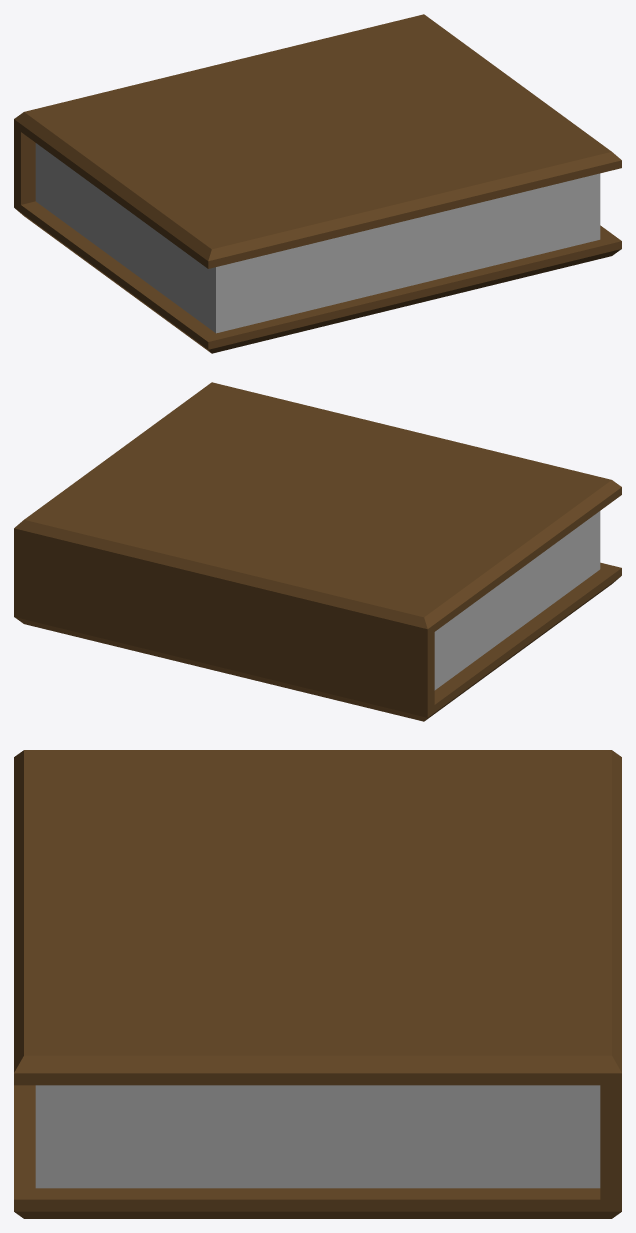
The model's file is Character_Rooms_Books_Brown.fbx.
3 views of the same model, one above another, from view 1: azimuth 30°, elevation 25°; view 2: azimuth 150°, elevation 25°; view 3: azimuth 270°, elevation 25° (orthographic). The views are drawn at different scales.
Parts seen in each view (by area): view 1: book; view 2: book; view 3: book.
Boxes of the visible parts, x1,y1,x2,y2 form: book: [14, 14, 621, 353]; book: [14, 382, 621, 721]; book: [14, 750, 621, 1218].
Bounding box in the file's own units: 75.77 × 18.26 × 61.61.
